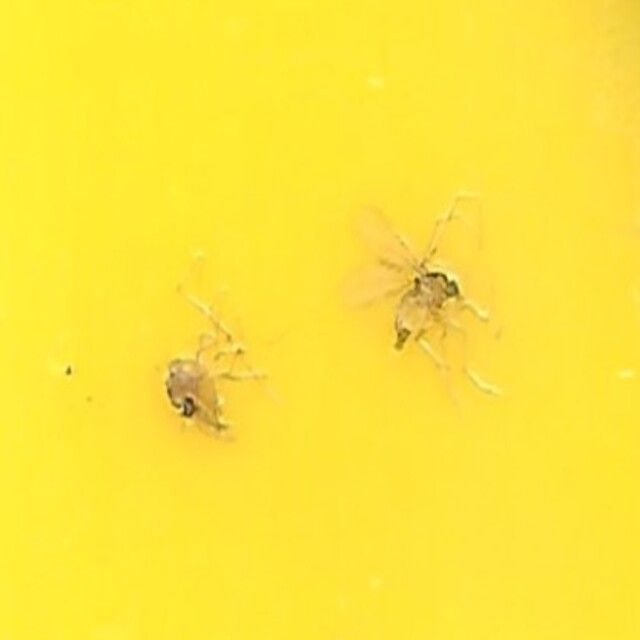Nematocera: (350, 193, 487, 387), (153, 329, 252, 447)
